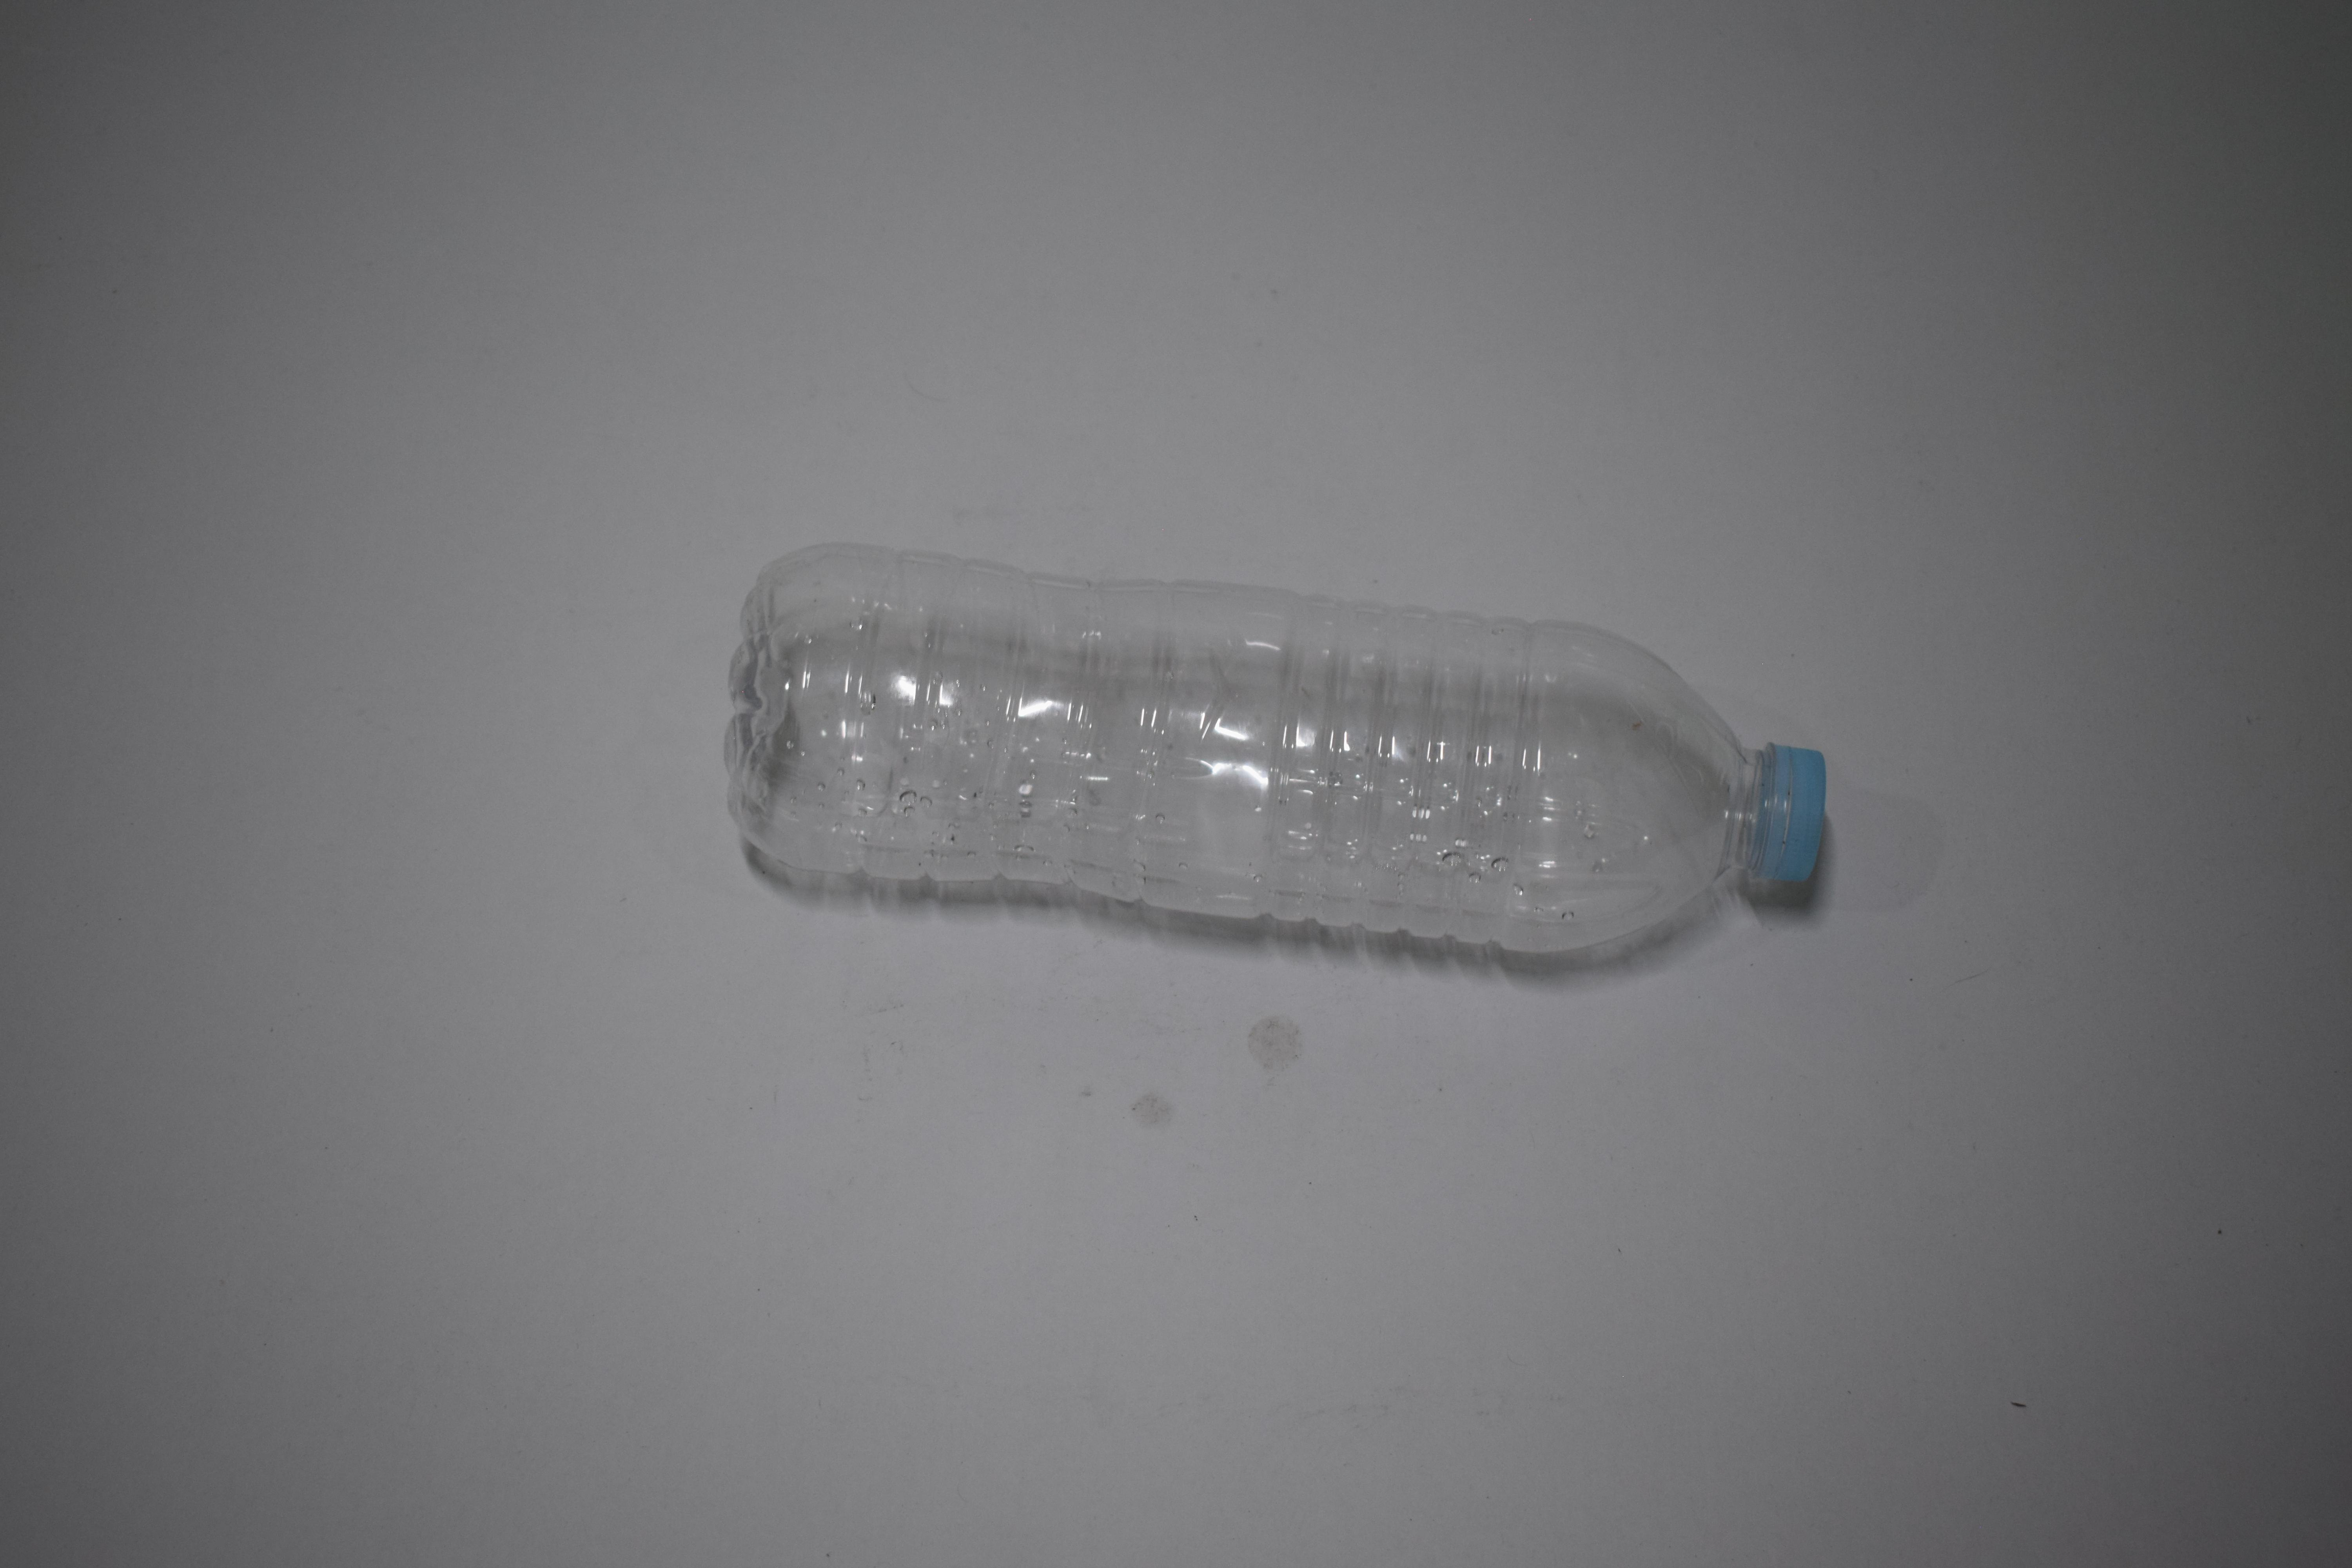bottle: (0, 528, 658, 968)
